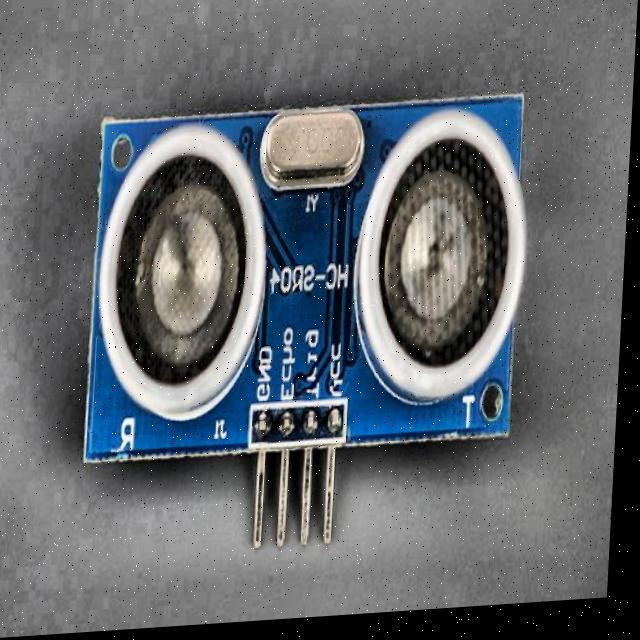Ultrasonic Sensor: (64, 80, 545, 550)
